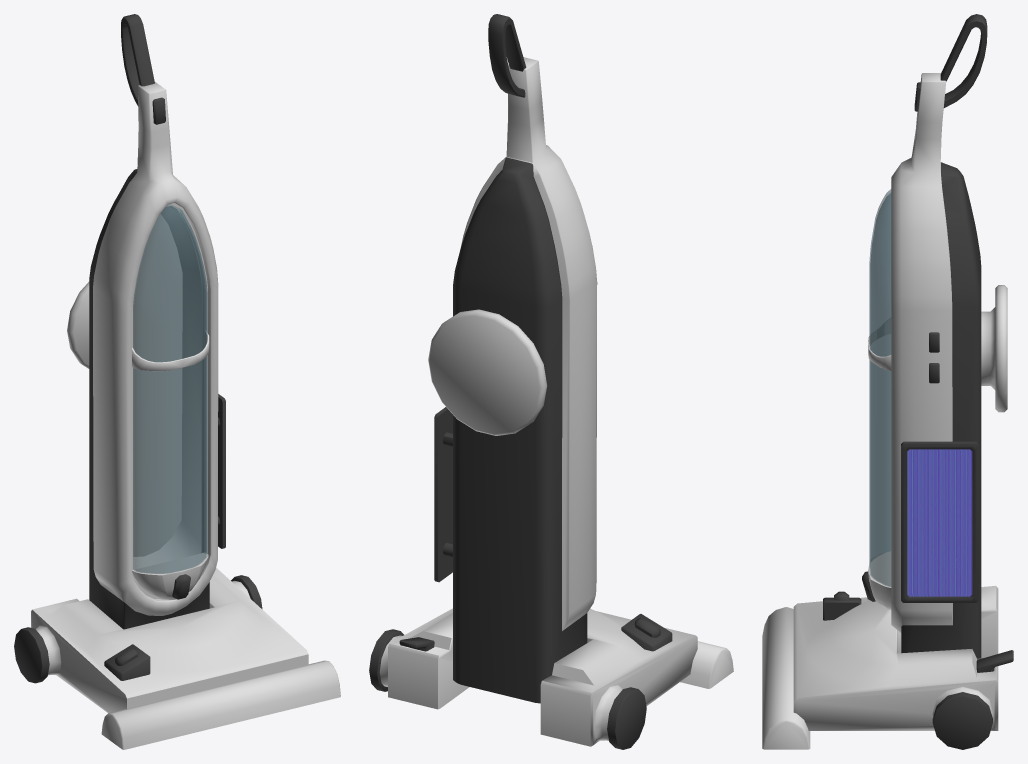
The picture shows the model from 3 angles, left to right: view 1: azimuth 30°, elevation 25°; view 2: azimuth 150°, elevation 25°; view 3: azimuth 270°, elevation 25°; orthographic projection. The views are drawn at different scales.
Visible parts, largest first — view 1: SU8551; view 2: SU8551; view 3: SU8551.
Boxes of the visible parts, x1,y1,x2,y2 form: SU8551: (14, 14, 340, 749); SU8551: (369, 14, 733, 749); SU8551: (762, 14, 1013, 749).
Size of the model in its own units: 970 by 2654 by 895.
